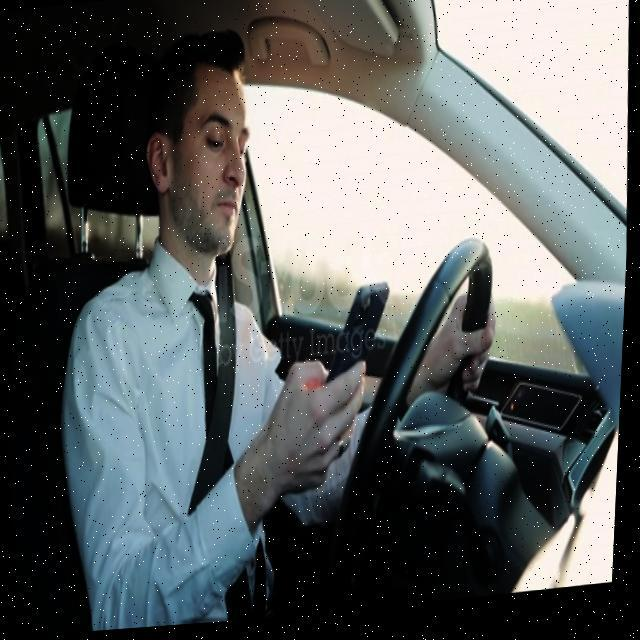PhoneCall: (329, 288, 395, 408)
